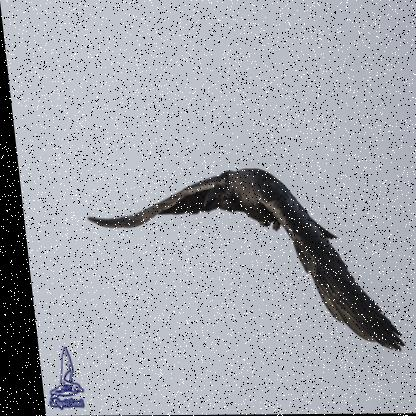Burung: (78, 167, 398, 354)
